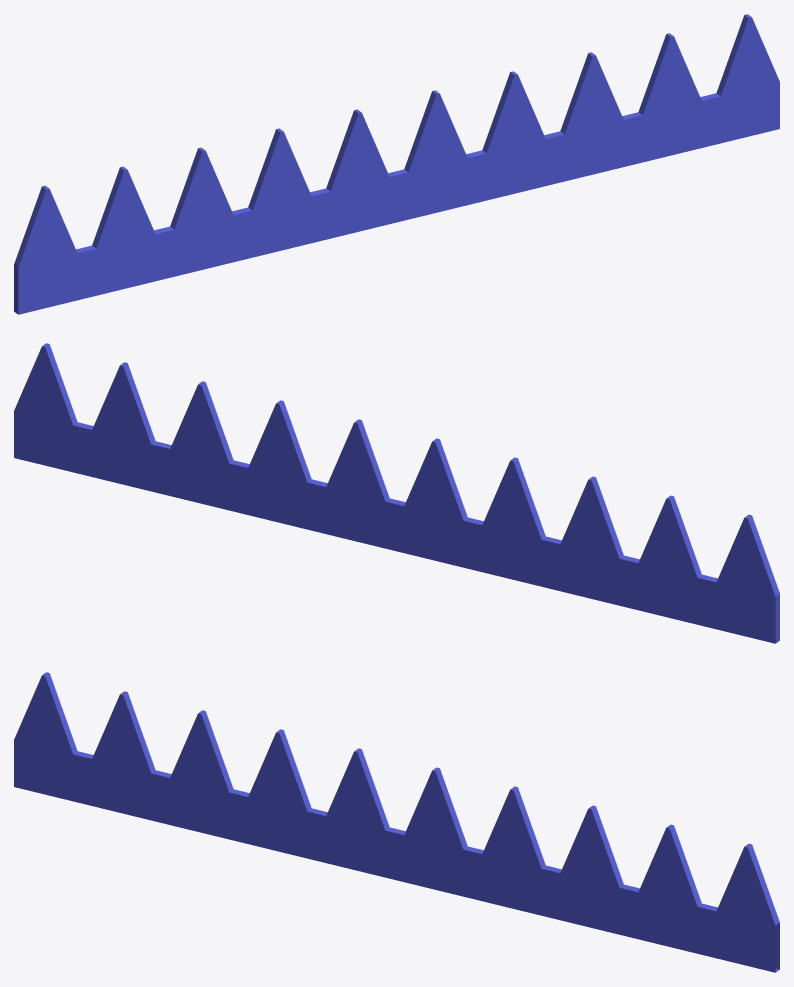
Rendered from perpendicular.fbx.
3 renders of one model, top to bottom at view 1: azimuth 30°, elevation 25°; view 2: azimuth 150°, elevation 25°; view 3: azimuth 330°, elevation 25°, orthographic.
Visible parts, largest first — view 1: ravne; view 2: ravne; view 3: ravne.
Boxes of the visible parts, x1=… form: ravne: x1=14, y1=14, x2=779, y2=314; ravne: x1=14, y1=343, x2=779, y2=643; ravne: x1=14, y1=672, x2=779, y2=972.
Bounding box in the file's own units: 83.21 × 12.37 × 0.8381.
Materials: 1 (1 with a texture image).
